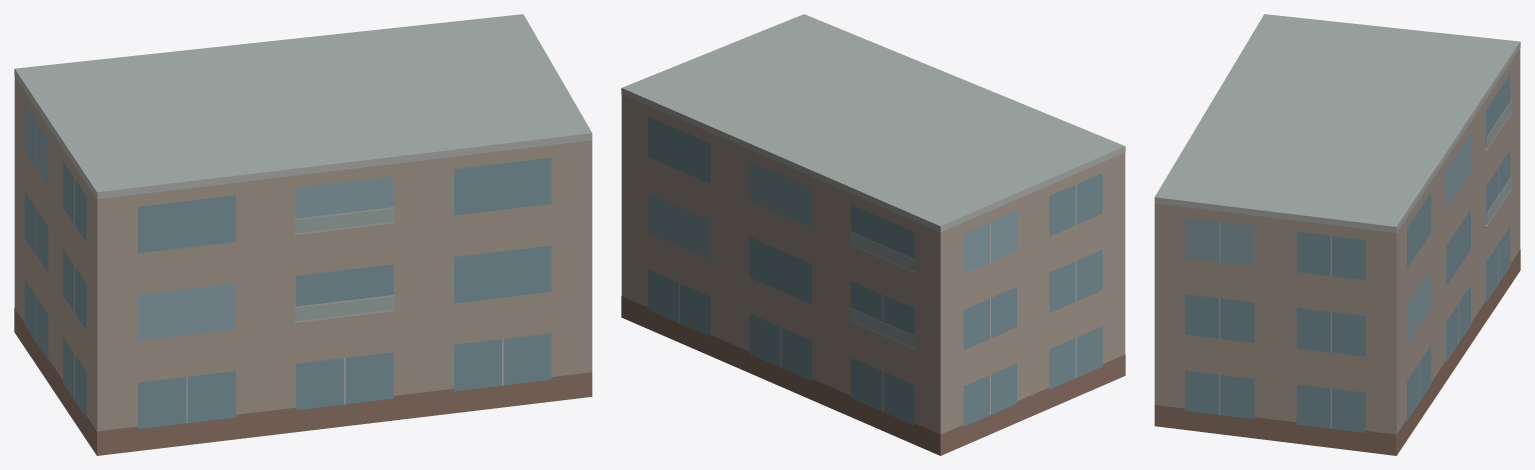
Rendered from survey-upis-32957862.glb.
3 renders of one model, left to right at view 1: azimuth 30°, elevation 25°; view 2: azimuth 150°, elevation 25°; view 3: azimuth 270°, elevation 25°, orthographic. The views are drawn at different scales.
Visible parts, largest first — view 1: survey-upis-32957862.tmp; view 2: survey-upis-32957862.tmp; view 3: survey-upis-32957862.tmp.
Part boxes in pixels (x1=…): survey-upis-32957862.tmp: x1=14, y1=14, x2=592, y2=455; survey-upis-32957862.tmp: x1=621, y1=14, x2=1125, y2=455; survey-upis-32957862.tmp: x1=1154, y1=14, x2=1520, y2=455.
Bounding box in the file's own units: 18.26 × 9.15 × 13.26.
